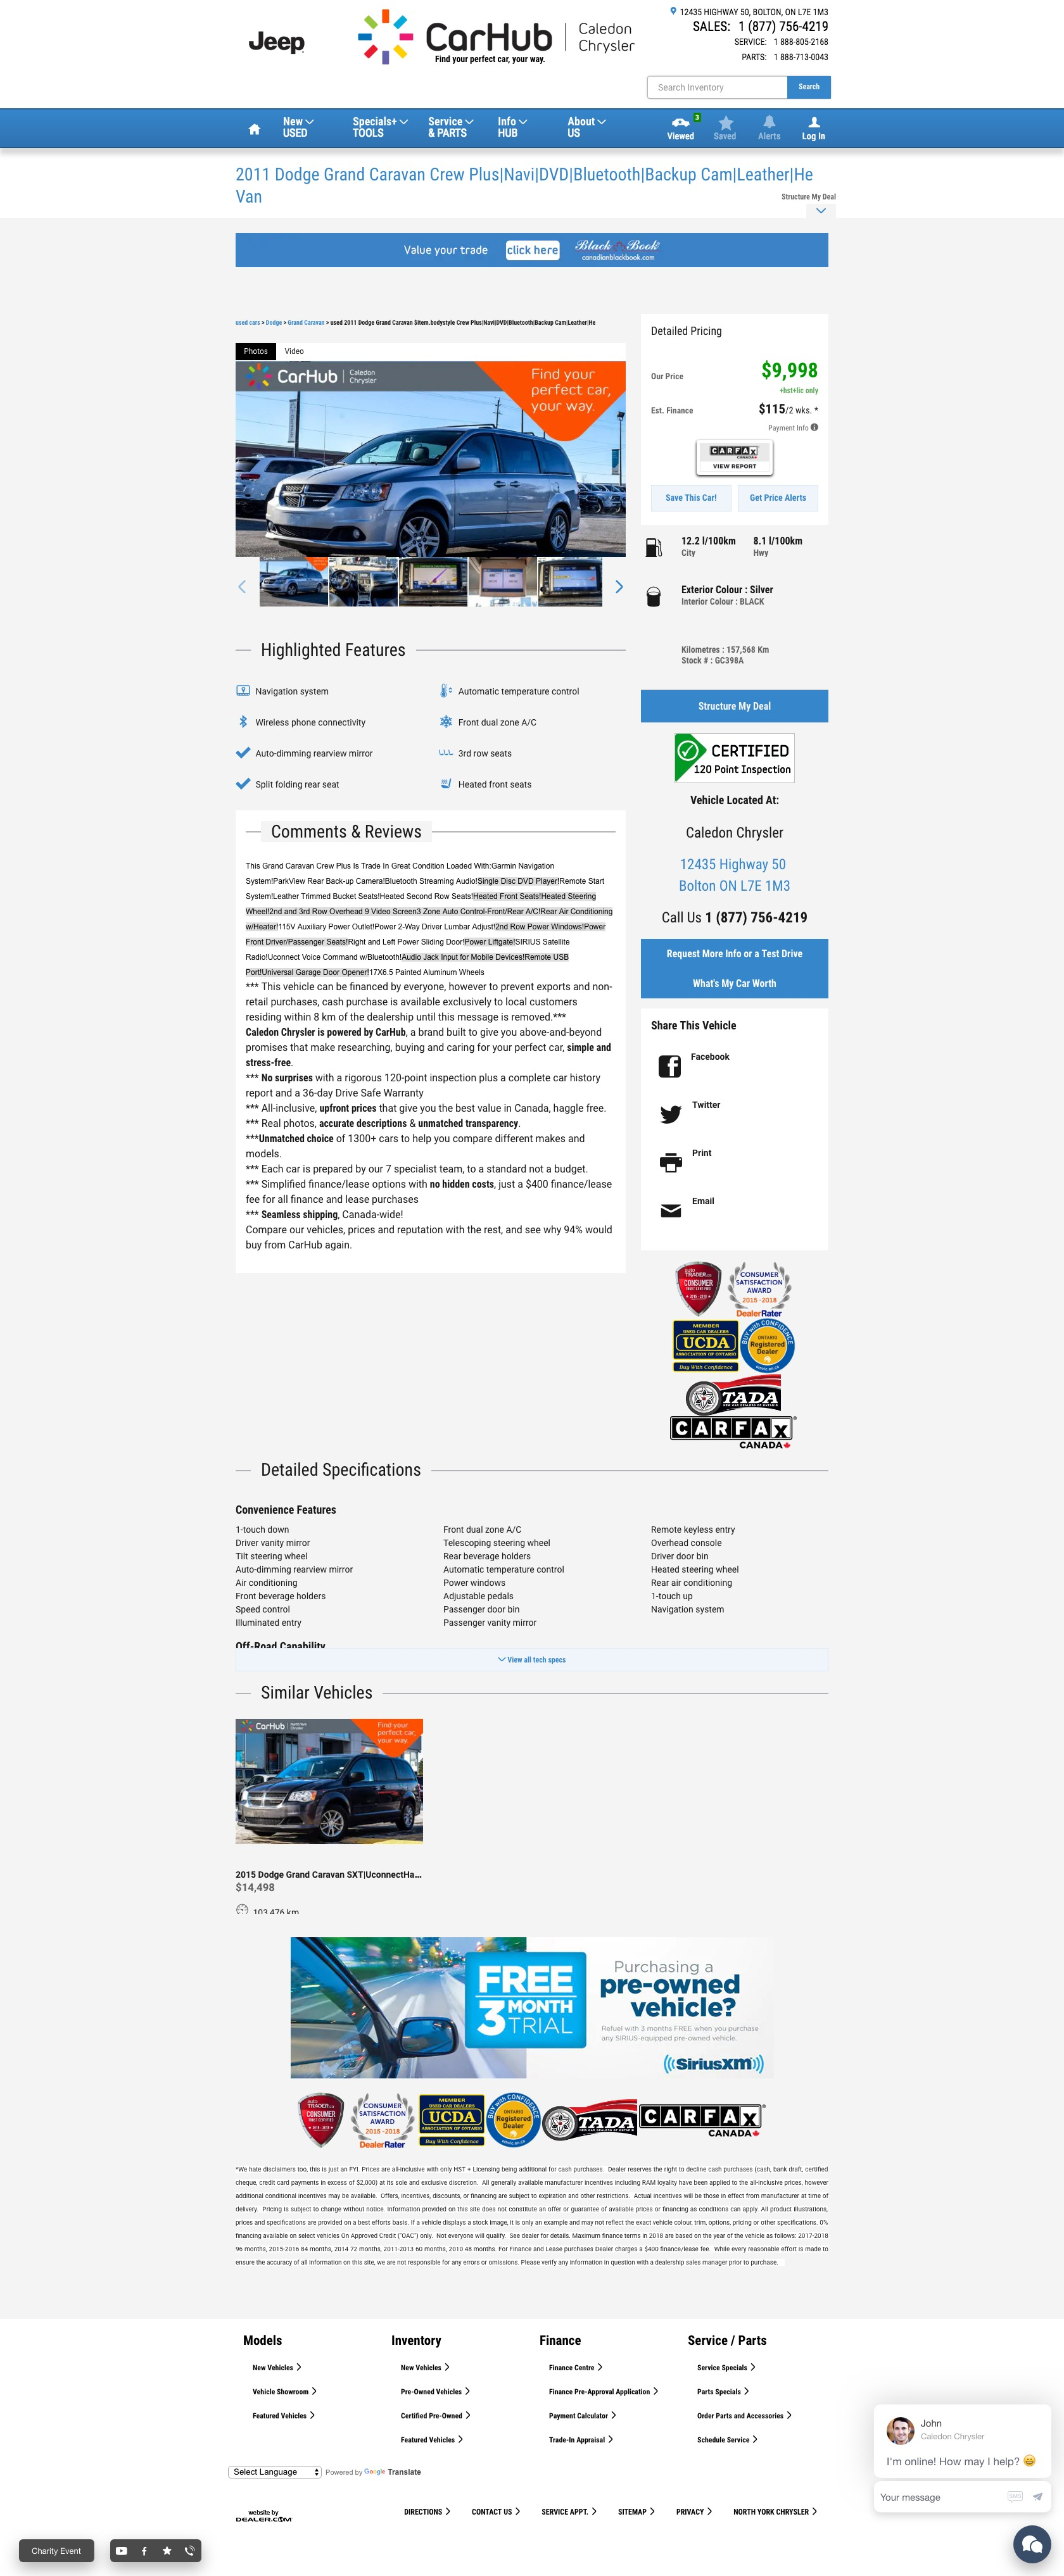car: (615, 580, 623, 595)
